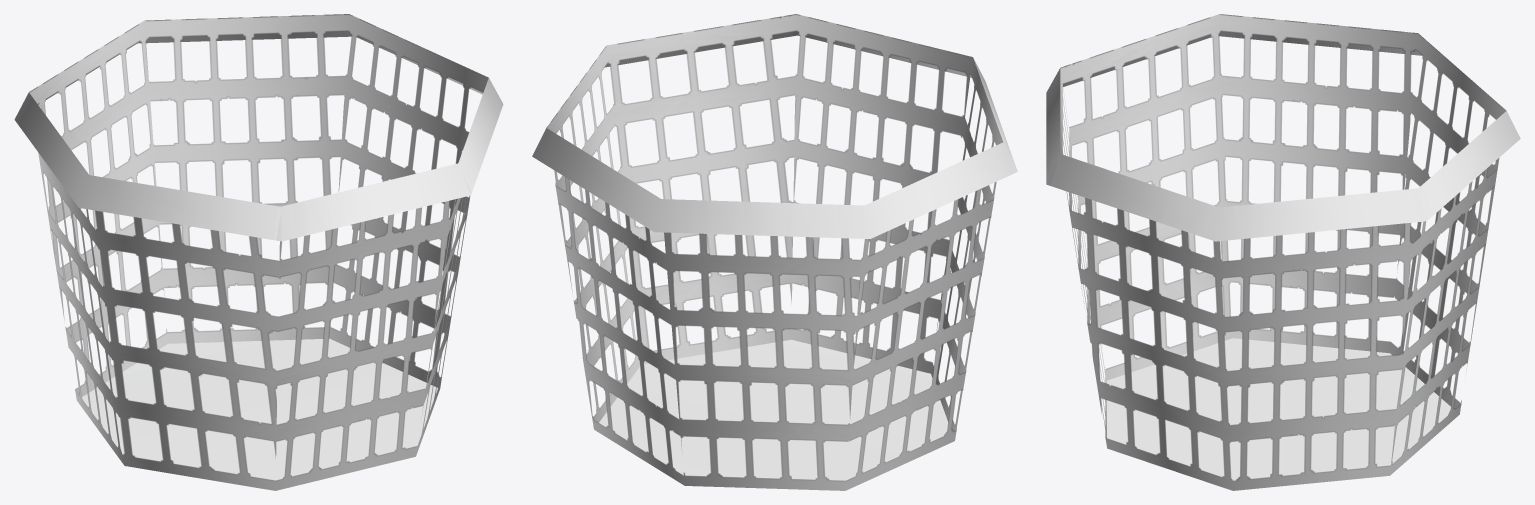
The model's file is Basket_01-col.glb.
The picture shows the model from 3 angles, left to right: view 1: azimuth 30°, elevation 25°; view 2: azimuth 150°, elevation 25°; view 3: azimuth 270°, elevation 25°; orthographic projection.
Visible parts, largest first — view 1: Basket_01-col; view 2: Basket_01-col; view 3: Basket_01-col.
Boxes of the visible parts, <box> form: Basket_01-col: <box>14,14,503,490</box>; Basket_01-col: <box>532,14,1017,490</box>; Basket_01-col: <box>1046,14,1520,490</box>.
Size of the model in its own units: 0.7713 by 0.5311 by 0.7519.
Materials: 1 (1 with a texture image).
